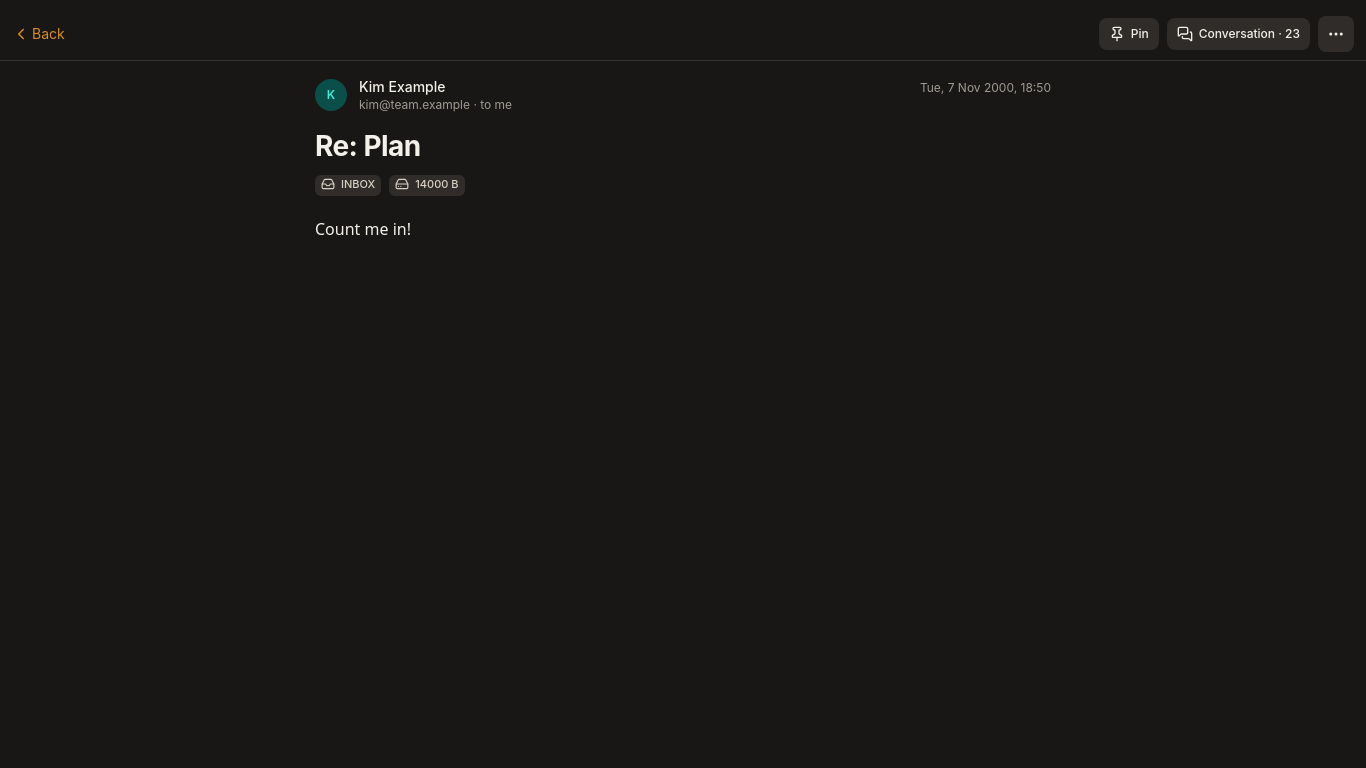
Test: Mute is offered to yourself's mail too, Block is not
Expected: the text "Count me in!" is shown, [315, 218, 411, 240]
Click the button named "More". click: (1336, 34)
box: [1318, 16, 1354, 52]
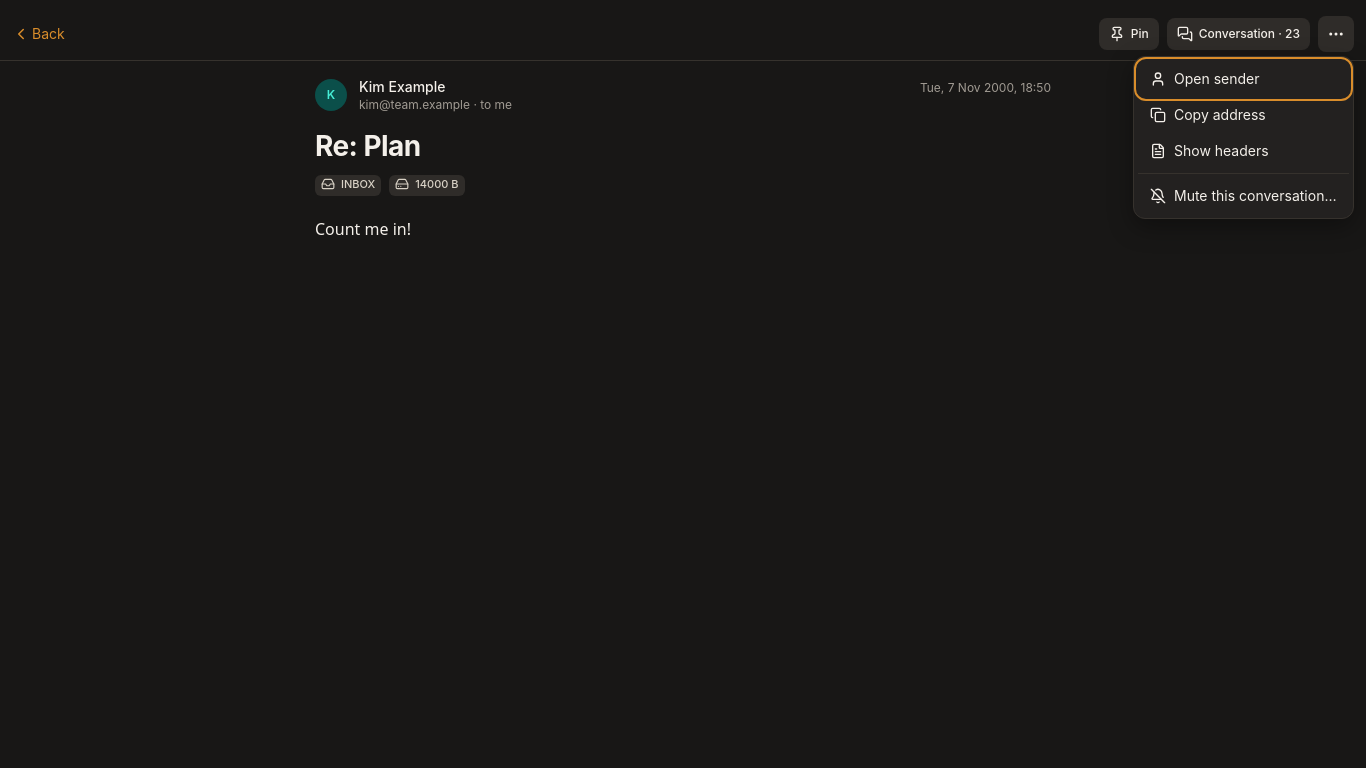
Expected: the element showing "Mute this conversation…" is shown, [1150, 186, 1336, 206]
